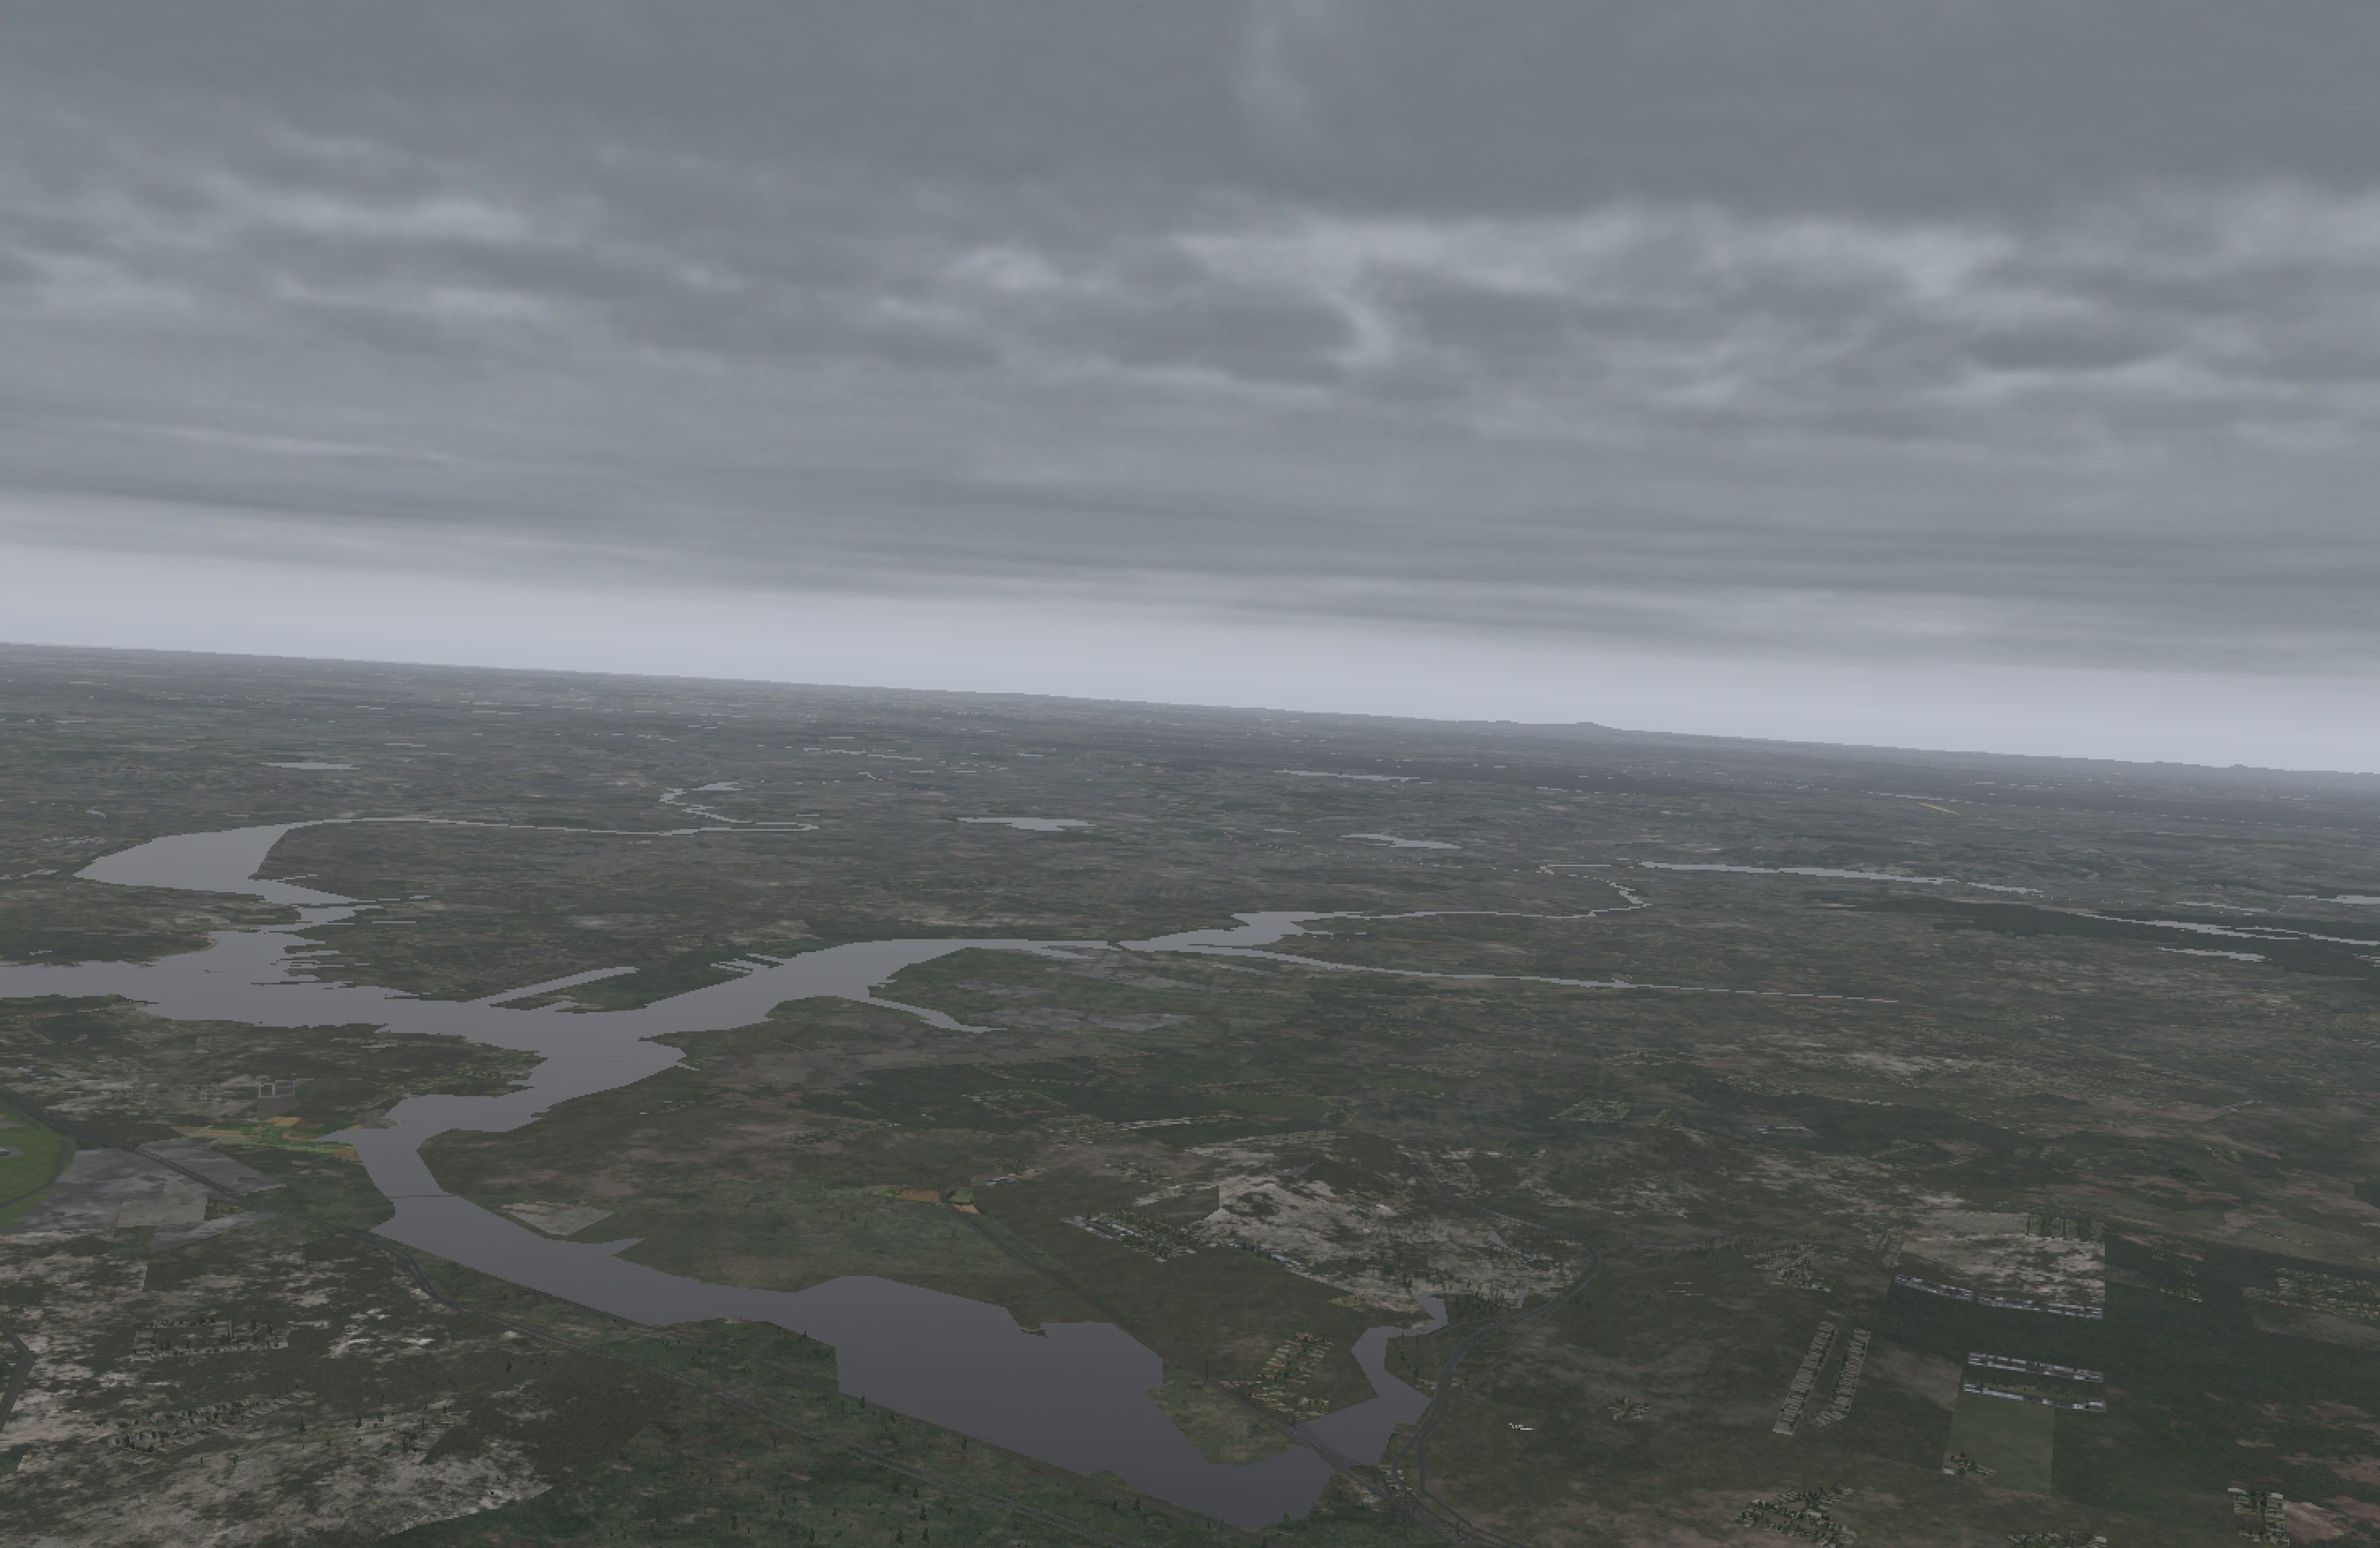aircraft: (1507, 1423, 1533, 1433)
